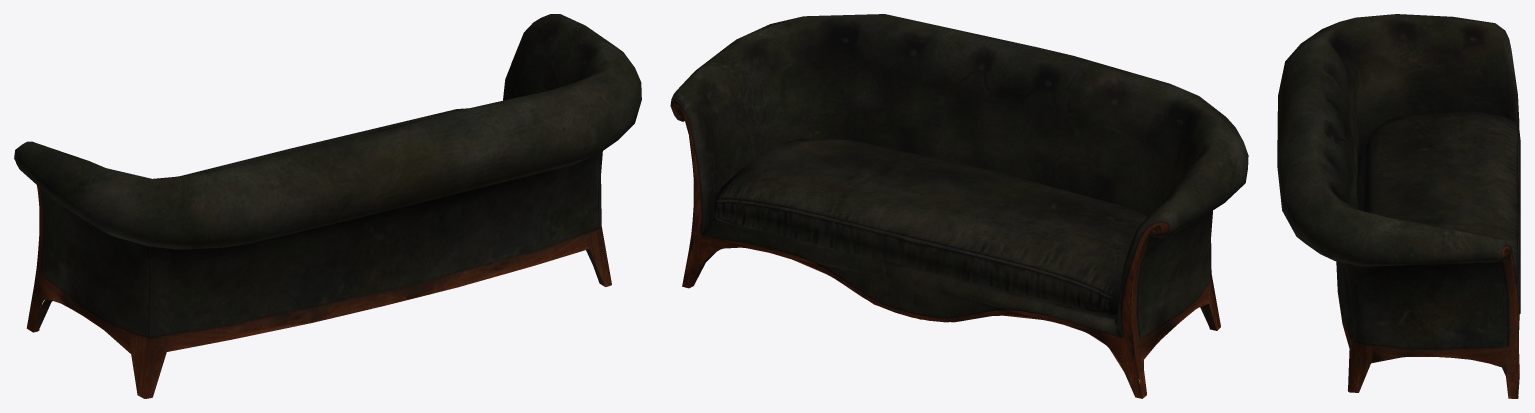
The picture shows the model from 3 angles, left to right: view 1: azimuth 30°, elevation 25°; view 2: azimuth 150°, elevation 25°; view 3: azimuth 270°, elevation 25°; orthographic projection. The views are drawn at different scales.
Parts seen in each view (by area): view 1: sofa_02_Base.001; view 2: sofa_02_Base.001; view 3: sofa_02_Base.001.
Boxes of the visible parts, bbox=[...] form: sofa_02_Base.001: bbox=[14, 14, 641, 398]; sofa_02_Base.001: bbox=[670, 14, 1248, 398]; sofa_02_Base.001: bbox=[1277, 14, 1520, 398].
Bounding box in the file's own units: 1.81 × 0.7097 × 0.8151.
Materials: 1 (1 with a texture image).
